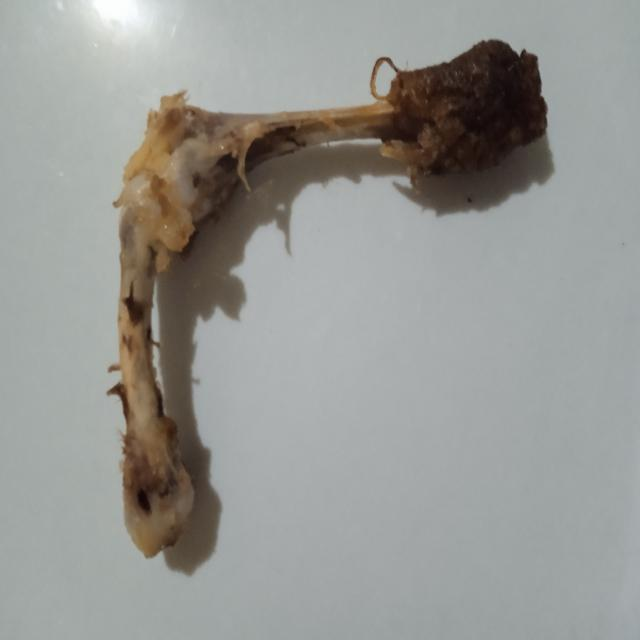bone: (104, 34, 552, 564)
